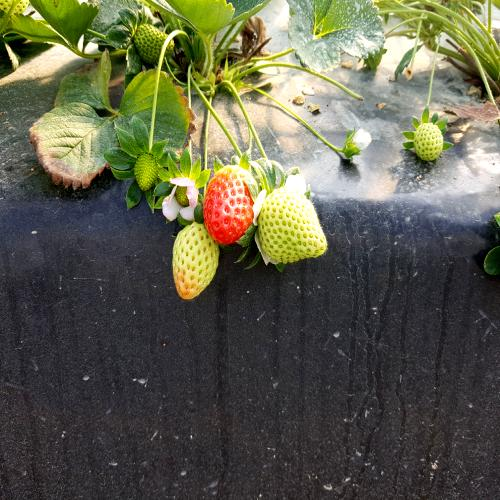ripe: (200, 160, 258, 254)
unripe: (255, 176, 335, 278), (170, 213, 222, 306)
